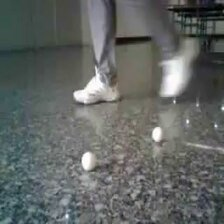w: (80, 151, 99, 170), (151, 126, 164, 144)
